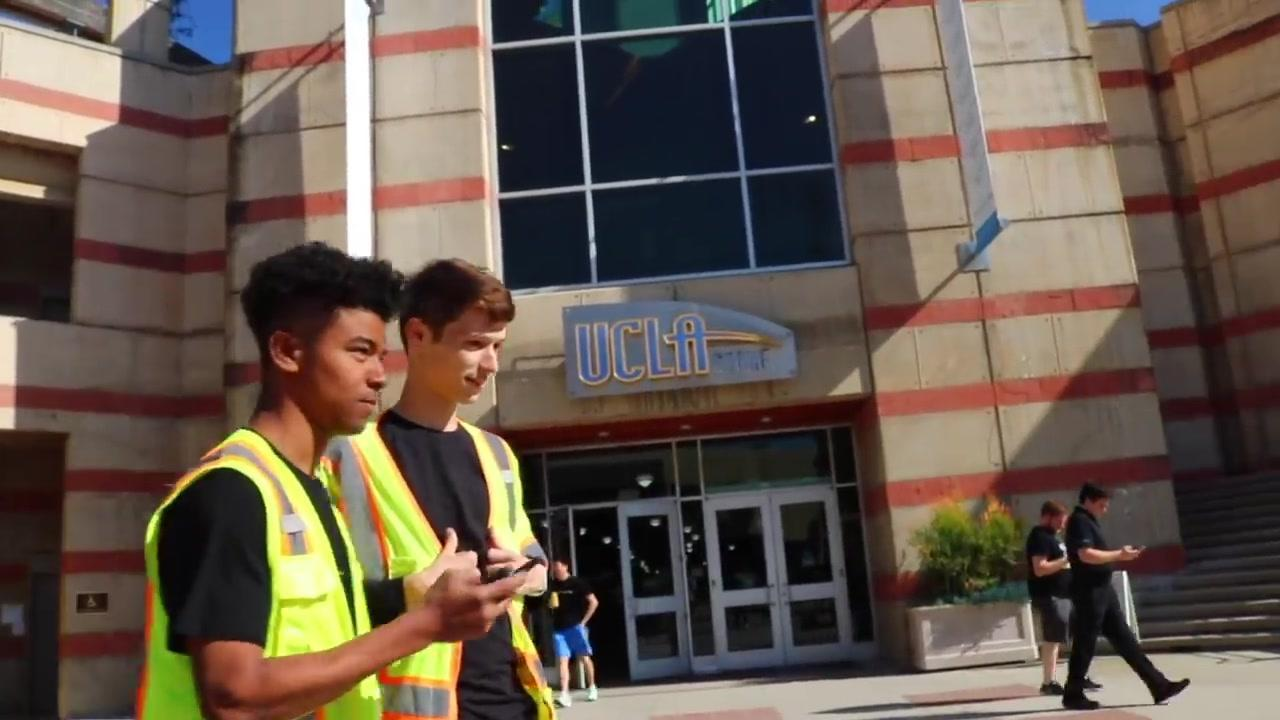vest: (134, 422, 382, 719), (324, 417, 558, 717)
